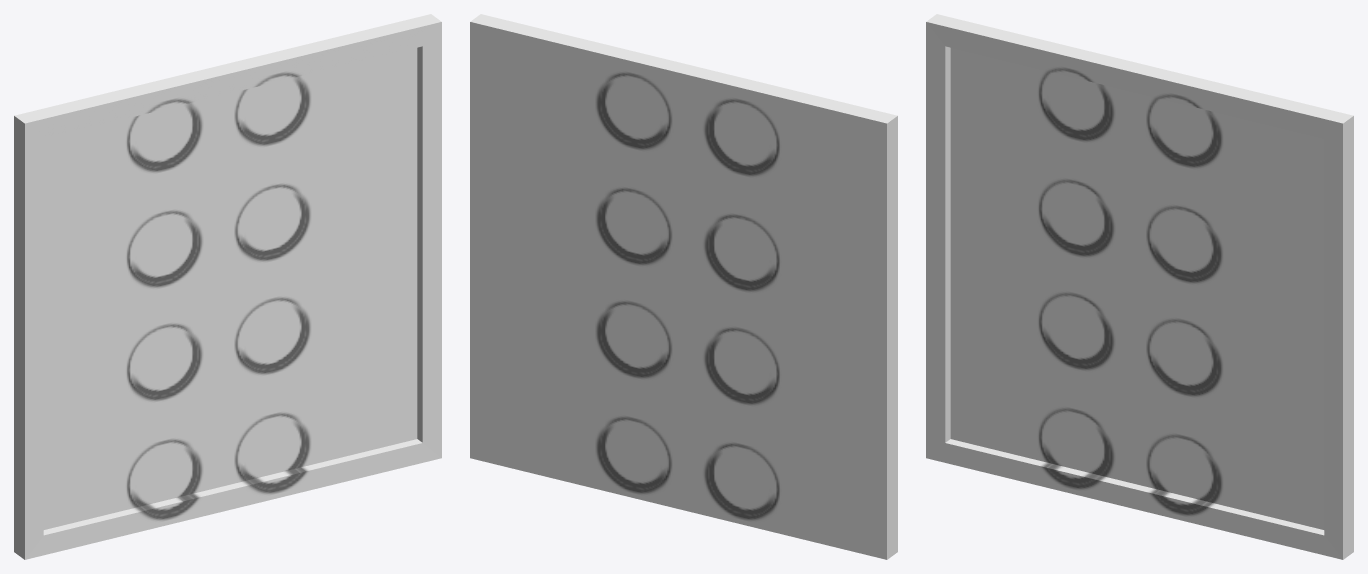
Rendered from floor180x180_wtf.obj.
The picture shows the model from 3 angles, left to right: view 1: azimuth 30°, elevation 25°; view 2: azimuth 150°, elevation 25°; view 3: azimuth 330°, elevation 25°; orthographic projection.
Parts seen in each view (by area): view 1: group2; view 2: group2; view 3: group2.
Part boxes in pixels (<box>): group2: <box>14,14,441,559</box>; group2: <box>470,14,897,559</box>; group2: <box>926,14,1353,559</box>.
Bounding box in the file's own units: 660 × 660 × 29.33.
